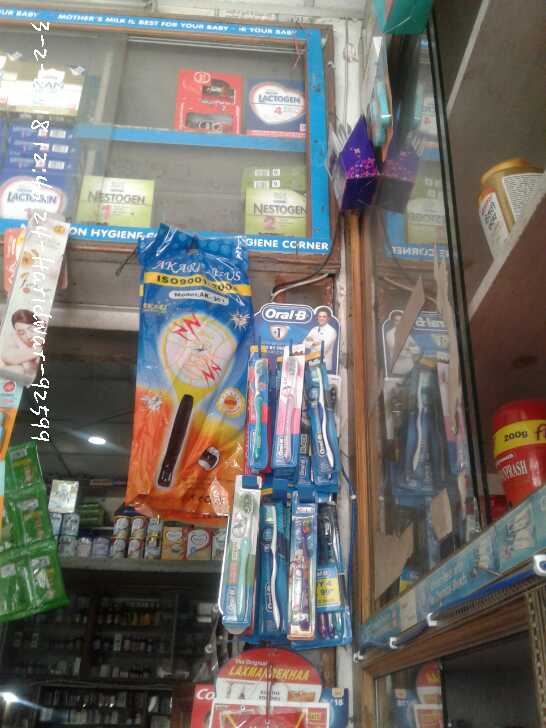oralb: (306, 350, 349, 477), (222, 490, 253, 630), (401, 359, 432, 480), (261, 496, 284, 634), (293, 505, 316, 641), (276, 337, 299, 465), (248, 344, 268, 461)
